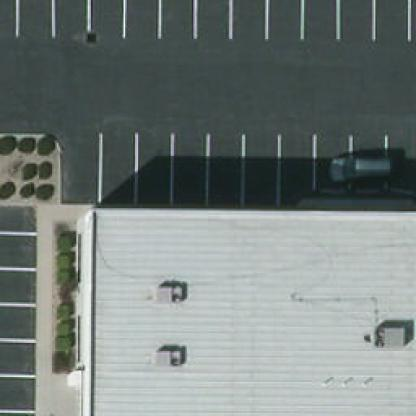car: (326, 158, 392, 182)
